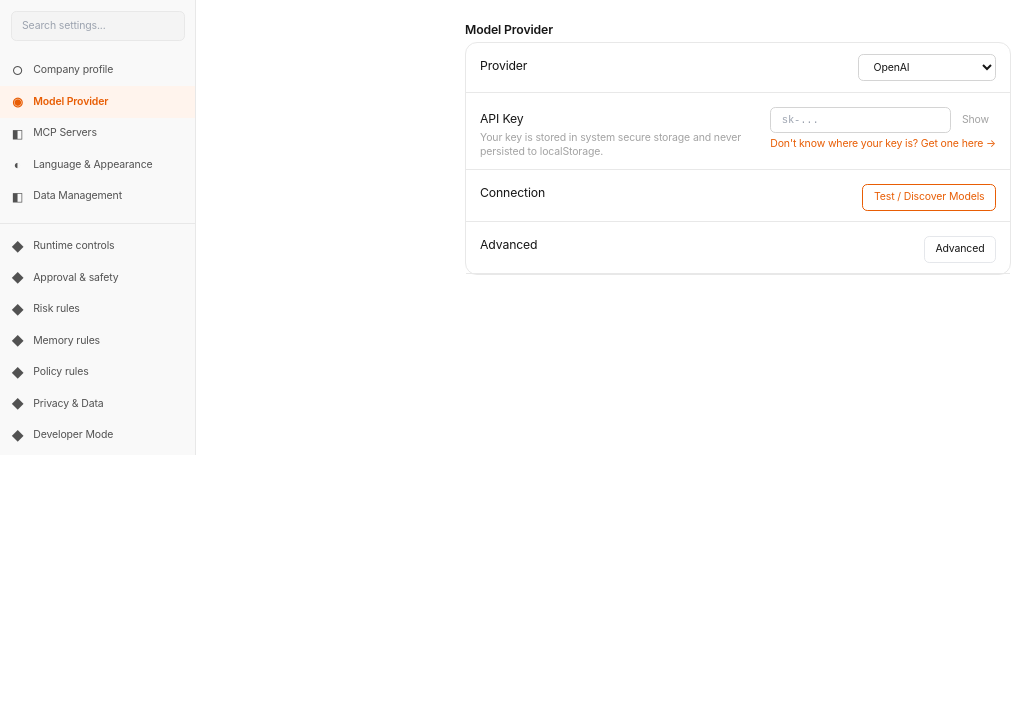
it: Desktop onboarding › normalizes an old stored mock provider to OpenAI Compatible
The width and height of the screenshot is (1028, 709).
Check: the dropdown shows "OpenAI", box 858,54 -> 996,81
# Model-role selectors are under Advanced now.
Click the button "Advanced" at (960, 249), box 924,236 -> 996,263
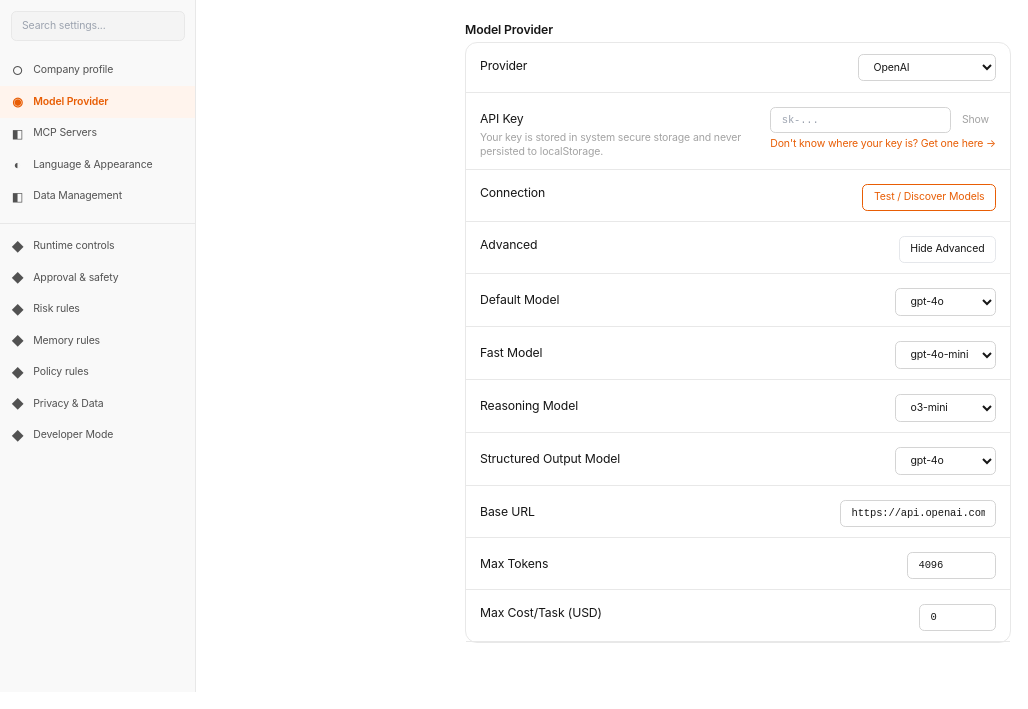
Check: the dropdown labelled "Default Model" shows "gpt-4o", box 895,288 -> 996,316
Check: the dropdown labelled "Fast Model" shows "gpt-4o-mini", box 895,341 -> 996,369
